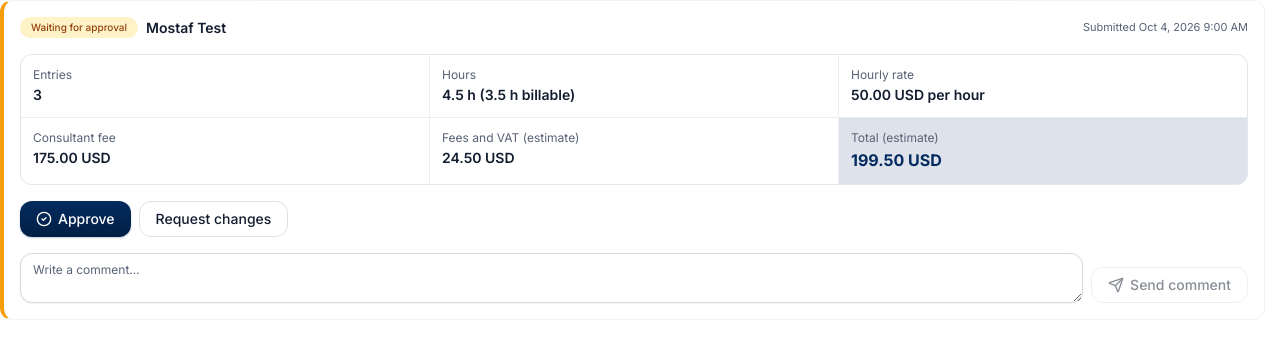
Test: TimesheetSubmissions as the client › sends a comment and empties the box
Type "Can you add the transaction code?" into the text box named "Comment on this timesheet". click: (552, 278)
box: [20,253,1083,303]
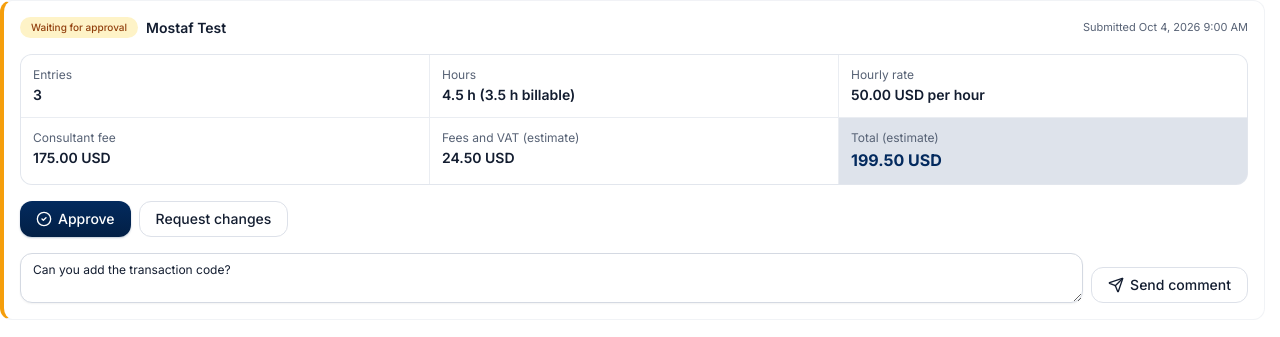
Click the button "Send comment". click: (1170, 285)
box: [1091,267,1248,303]
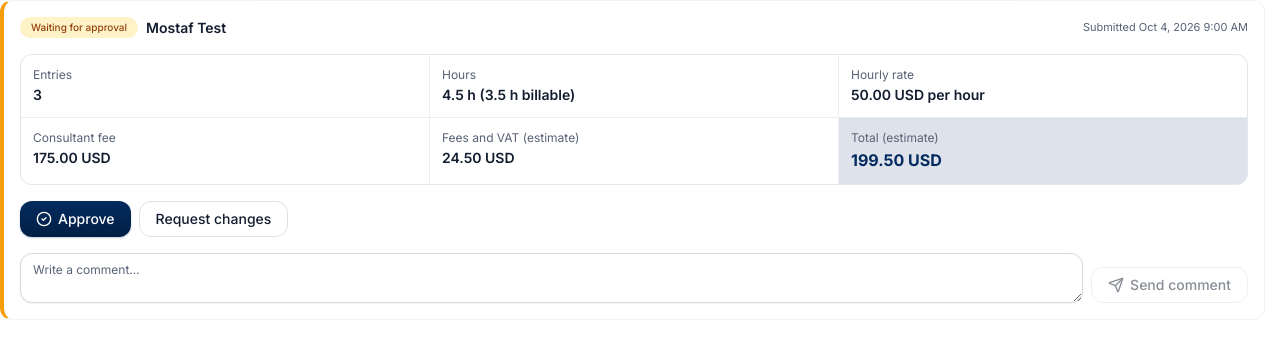
Expected: the text box named "Comment on this timesheet" is empty, [20,253,1083,303]
